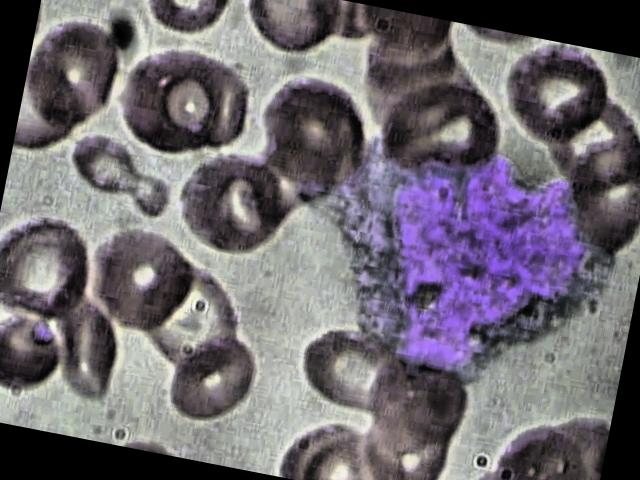RBC: (160, 142, 314, 274), (0, 195, 117, 337), (489, 34, 615, 162), (158, 317, 268, 434), (0, 300, 81, 411)
WBC: (288, 120, 636, 414)
